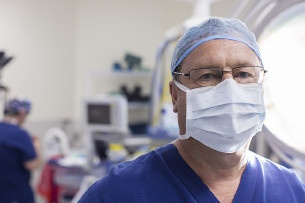Mask: (177, 59, 266, 147)
